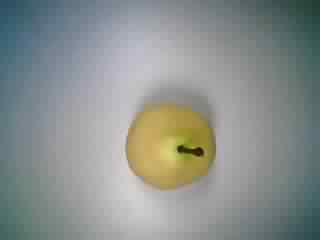pear: (117, 96, 228, 197)
